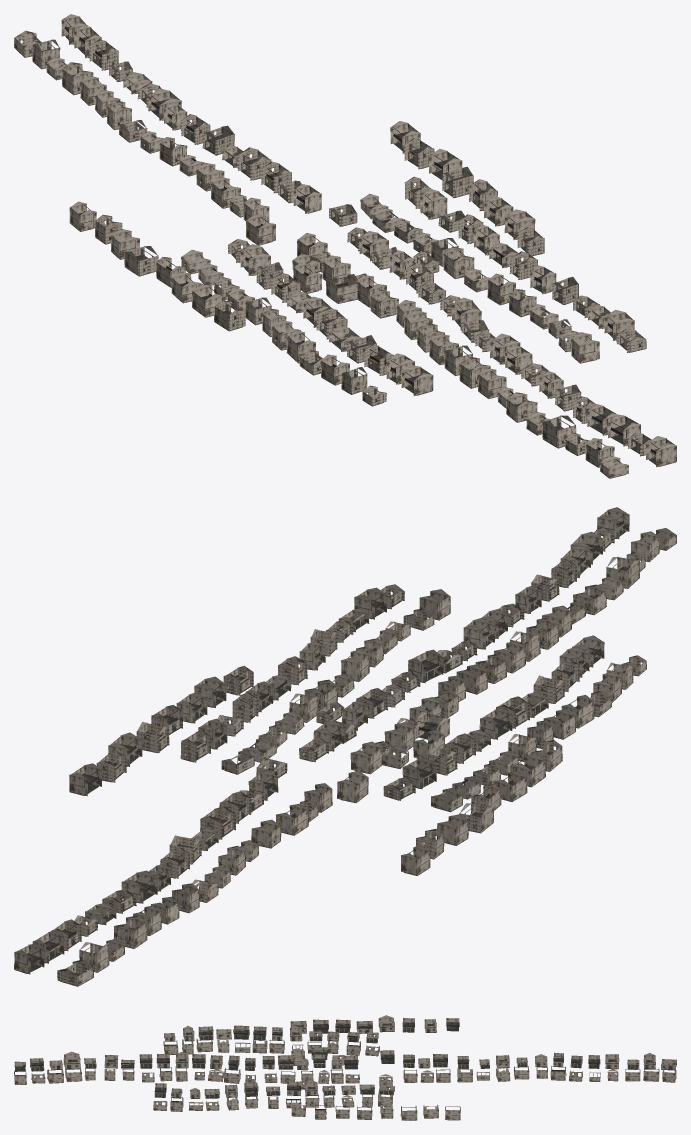
File: canal_interiors.glb
3 renders of one model, top to bottom at view 1: azimuth 30°, elevation 25°; view 2: azimuth 150°, elevation 25°; view 3: azimuth 270°, elevation 25°, orthographic. The views are drawn at different scales.
Visible parts, largest first — view 1: canal_interiors0, canal_interiors1; view 2: canal_interiors0, canal_interiors1; view 3: canal_interiors0, canal_interiors1.
Part boxes in pixels (<box>): canal_interiors0: <box>14,14,676,478</box>; canal_interiors1: <box>470,179,544,255</box>; canal_interiors0: <box>14,507,676,986</box>; canal_interiors1: <box>152,665,253,723</box>; canal_interiors0: <box>14,1015,676,1120</box>; canal_interiors1: <box>291,1104,371,1119</box>.
Bounding box in the file's own units: 117 × 7.38 × 346.
1 material, 1 textured.
